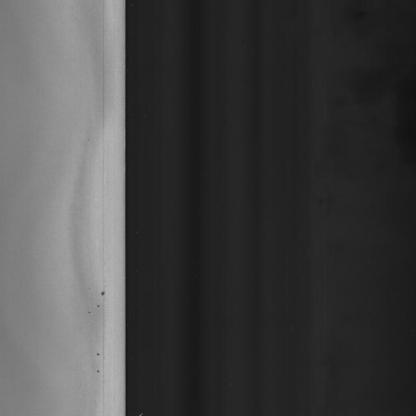oil_spot: (90, 286, 110, 313), (93, 345, 104, 384)
